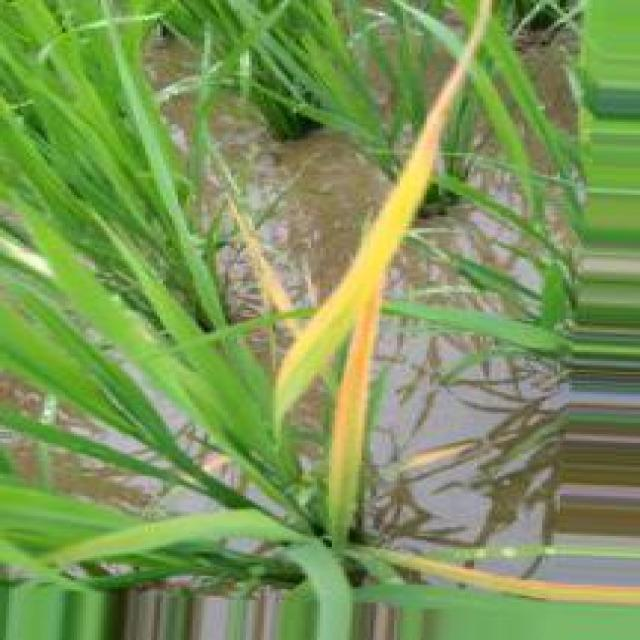Rice Tungro: (276, 0, 491, 547), (274, 60, 469, 421), (371, 549, 637, 606), (230, 199, 293, 312), (401, 442, 477, 472)
